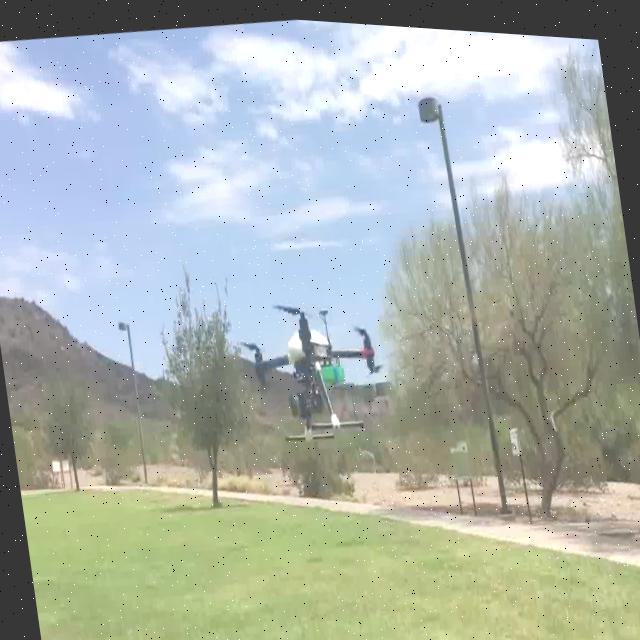drone: (238, 289, 389, 451)
